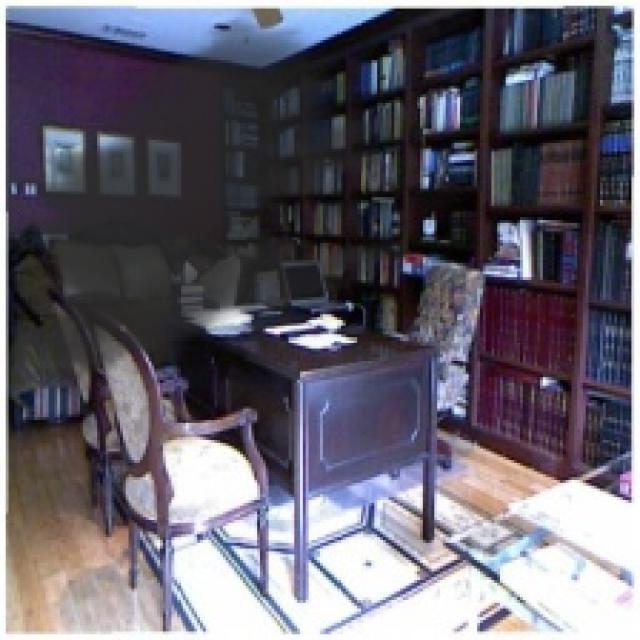Smoke: (14, 6, 409, 392)
